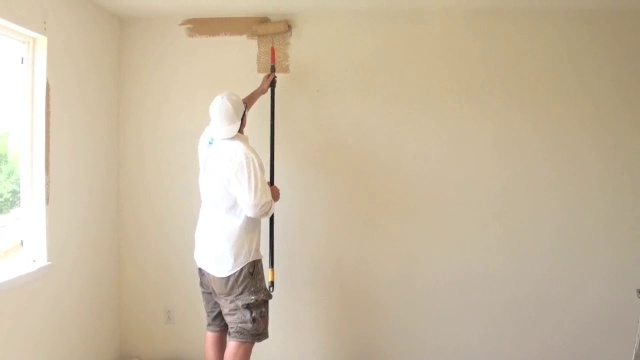person: (188, 64, 281, 355)
